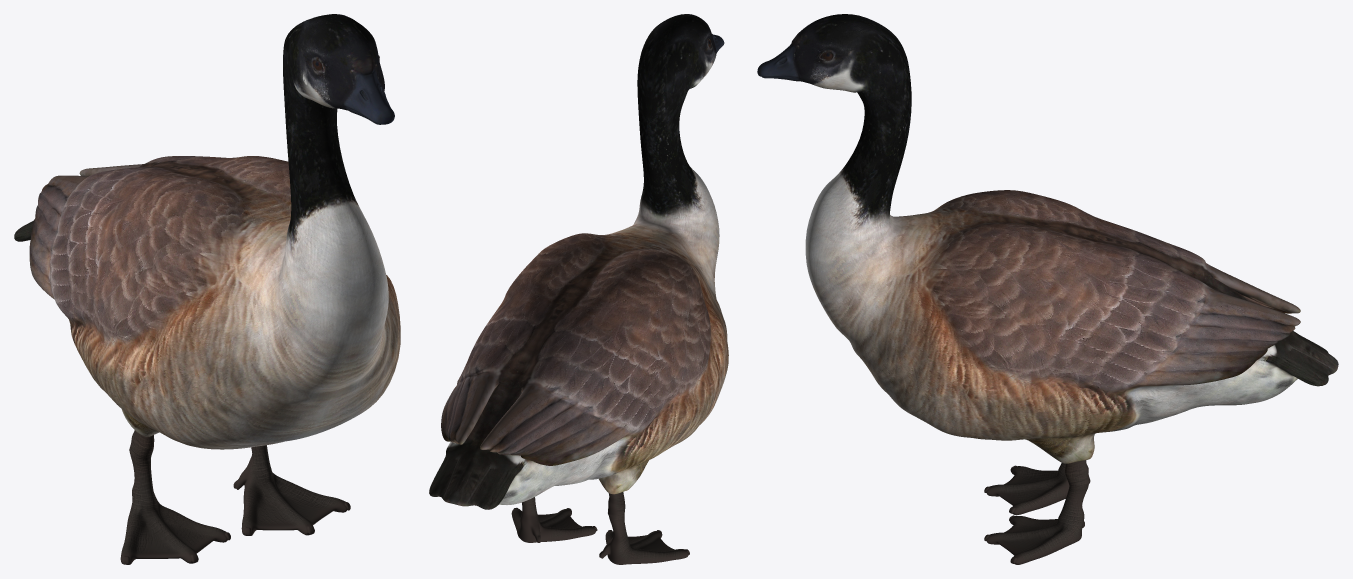
Rendered from goose.fbx.
3 renders of one model, left to right at view 1: azimuth 30°, elevation 25°; view 2: azimuth 150°, elevation 25°; view 3: azimuth 270°, elevation 25°, orthographic. The views are drawn at different scales.
Parts seen in each view (by area): view 1: 12256_canadiangoos_v1_l3; view 2: 12256_canadiangoos_v1_l3; view 3: 12256_canadiangoos_v1_l3.
Part boxes in pixels (x1,y1,x2,y2): 12256_canadiangoos_v1_l3: (14,14,400,564); 12256_canadiangoos_v1_l3: (429,14,728,564); 12256_canadiangoos_v1_l3: (757,14,1338,564).
Bounding box in the file's own units: 21.74 × 46.52 × 48.76.
Materials: 2 (2 with a texture image).
